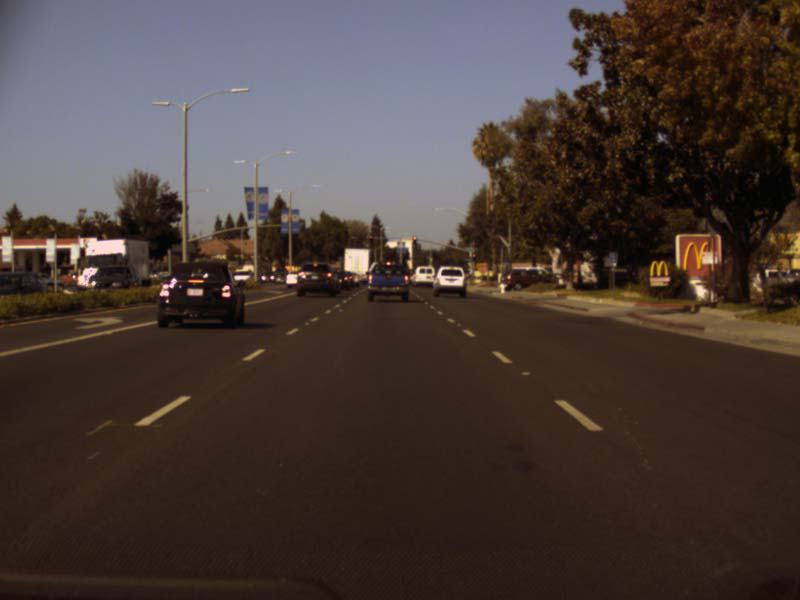Red: (368, 234, 373, 245), (412, 235, 416, 245), (472, 253, 475, 262)
